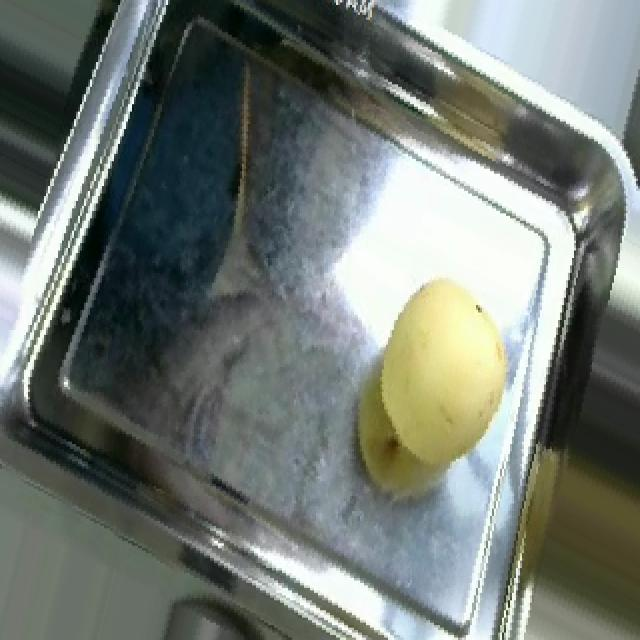Fruit: (328, 256, 534, 524), (456, 421, 640, 640)
